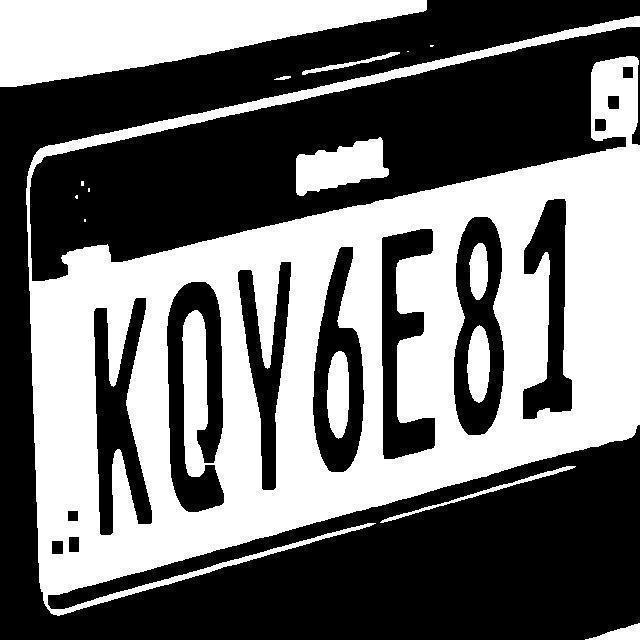1: (515, 191, 580, 453)
6: (294, 229, 360, 486)
8: (442, 207, 508, 469)
e: (358, 222, 436, 481)
k: (74, 260, 147, 538)
q: (150, 245, 224, 520)
y: (231, 225, 285, 502)
